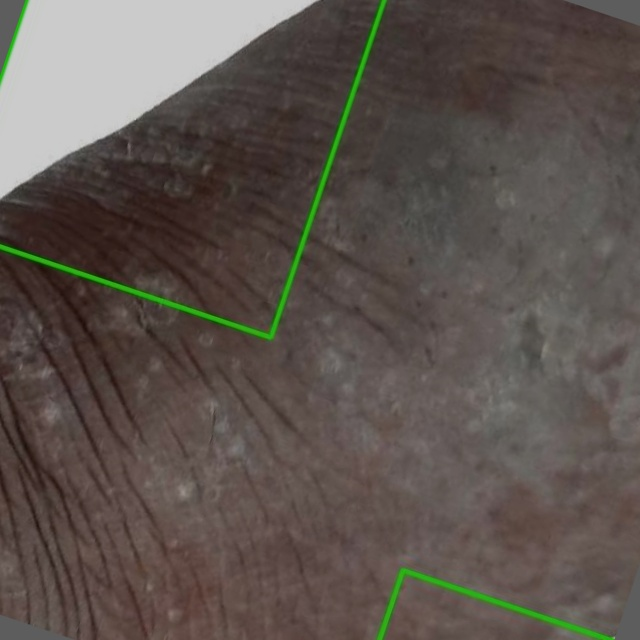Contact Dermatitis: (0, 0, 384, 337)
